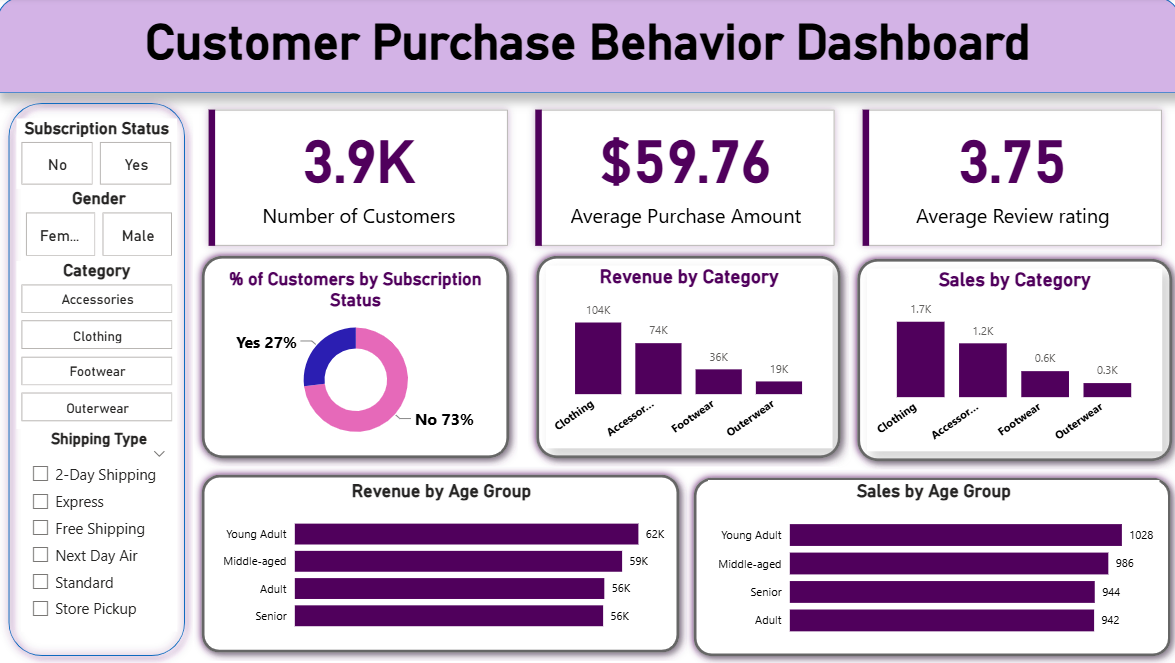

This screenshot's page, from the dashboard's own definition file:
{"tool":"powerbi","page":{"name":"Page 1","canvas":[1280,720],"ordinal":0},"visuals":[{"type":"cardVisual","fields":{"Data":["modified_data.Number of Customers","modified_data.Average Purchase Amount","modified_data.Average Review rating"]},"box":[215.4,105.2,1063.8,179.7],"z":0},{"type":"shape","box":[3.2,0,1277.6,103.6],"z":1000},{"type":"textbox","box":[1.6,0,1279.2,103.6],"z":2000},{"type":"shape","box":[215.4,270.4,349.8,236.4],"z":3000},{"type":"donutChart","title":"% of Customers by Subscription Status","fields":{"Category":["modified_data.subscription_status"],"Y":["CountNonNull(modified_data.customer_id)"]},"box":[233.2,293.1,314.1,197.5],"z":4000},{"type":"shape","box":[576.4,270.4,346.5,236.4],"z":5000},{"type":"shape","box":[923,273.6,357.8,236.4],"z":6000},{"type":"clusteredColumnChart","title":"Revenue by Category","fields":{"Y":["Sum(modified_data.purchase_amount)"],"Category":["modified_data.category"]},"box":[595.9,289.8,309.3,197.5],"z":7000},{"type":"clusteredColumnChart","title":"Sales by Category","fields":{"Category":["modified_data.category"],"Y":["CountNonNull(modified_data.customer_id)"]},"box":[942.4,293.1,319,197.5],"z":8000},{"type":"shape","box":[6.5,105.2,208.9,615.3],"z":9000},{"type":"advancedSlicerVisual","fields":{"Values":["modified_data.subscription_status"]},"box":[24.3,131.2,173.3,76.1],"z":10000},{"type":"advancedSlicerVisual","fields":{"Values":["modified_data.gender"]},"box":[29.1,207.3,168.4,77.7],"z":11000},{"type":"advancedSlicerVisual","fields":{"Values":["modified_data.category"]},"box":[24.3,285,173.3,181.4],"z":12000},{"type":"slicer","title":"Shipping Type","fields":{"Values":["modified_data.shipping_type"]},"box":[29.1,466.3,168.4,218.6],"z":13000},{"type":"shape","box":[746.5,510.1,532.7,210.5],"z":14000},{"type":"clusteredBarChart","title":"Sales by Age Group","fields":{"Y":["CountNonNull(modified_data.customer_id)"],"Category":["modified_data.age_group"]},"box":[770.8,521.4,487.4,181.4],"z":15000},{"type":"shape","box":[215.7,506.5,533.4,209.9],"z":15500},{"type":"clusteredBarChart","title":"Revenue by Age Group","fields":{"Y":["Sum(modified_data.purchase_amount)"],"Category":["modified_data.age_group"]},"box":[236.9,521.9,493,175.2],"z":16000}]}

Visuals, with their boxes in screenshot pixels (x1, y1, x2, y2), scaled from the page's 1280x720 canvas onto the 1175x663 screenshot:
cardVisual - modified_data.Number of Customers x modified_data.Average Purchase Amount: 198/97/1174/262
shape: 3/0/1174/95
textbox: 1/0/1174/95
shape: 198/249/519/467
"% of Customers by Subscription Status" donutChart: 214/270/502/452
shape: 529/249/847/467
shape: 847/252/1174/470
"Revenue by Category" clusteredColumnChart: 547/267/831/449
"Sales by Category" clusteredColumnChart: 865/270/1158/452
shape: 6/97/198/662
advancedSlicerVisual - modified_data.subscription_status: 22/121/181/191
advancedSlicerVisual - modified_data.gender: 27/191/181/262
advancedSlicerVisual - modified_data.category: 22/262/181/429
"Shipping Type" slicer: 27/429/181/631
shape: 685/470/1174/662
"Sales by Age Group" clusteredBarChart: 708/480/1155/647
shape: 198/466/688/660
"Revenue by Age Group" clusteredBarChart: 217/481/670/642
